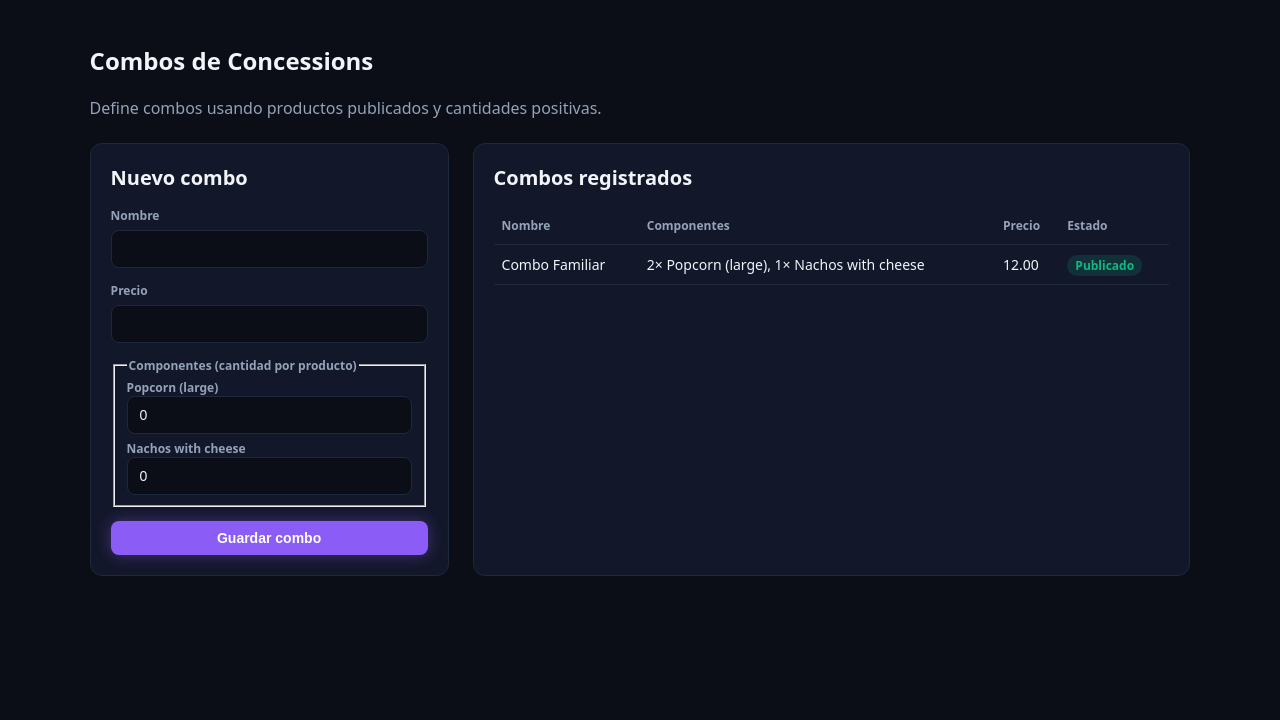
Scenario: CombosPageComponent › saves a combo with the chosen quantities
The image size is (1280, 720).
Type "Pareja" into the field with id "combo-name".
click(269, 249); type("Pareja")  # box [111,230,428,268]
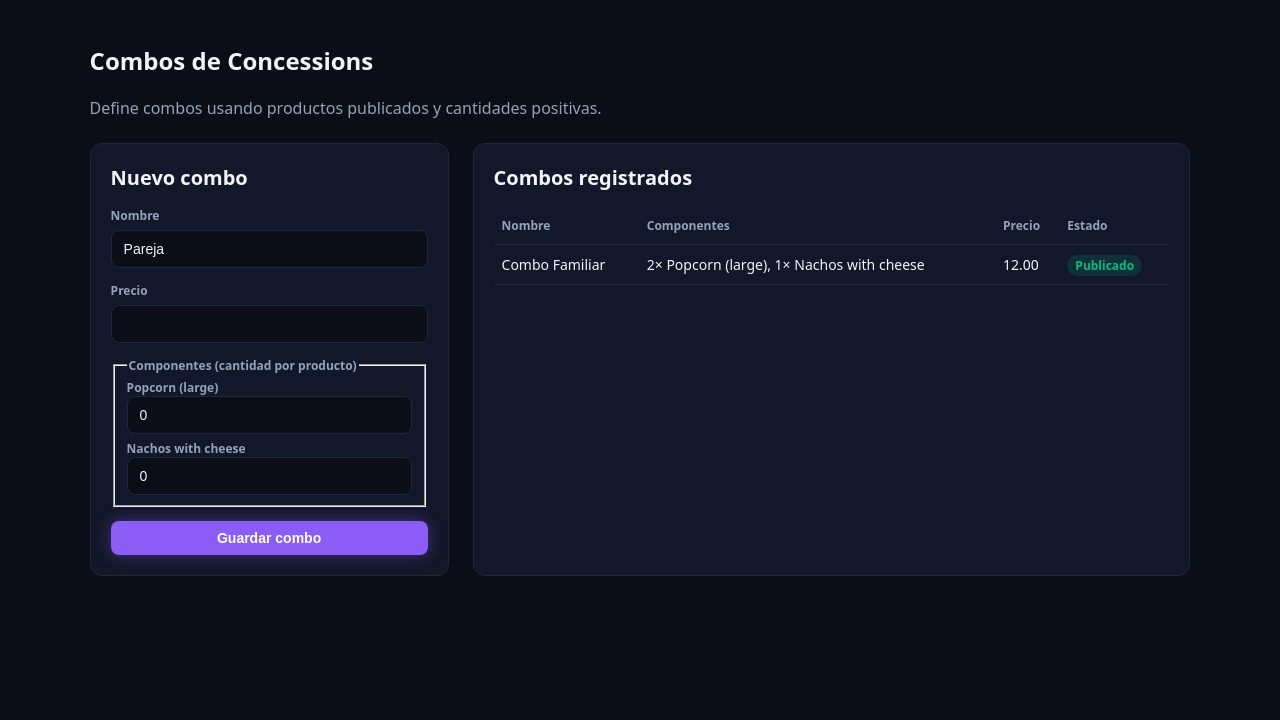
Type "9" into the number field with id "combo-price".
click(269, 324); type("9")  # box [111,305,428,343]
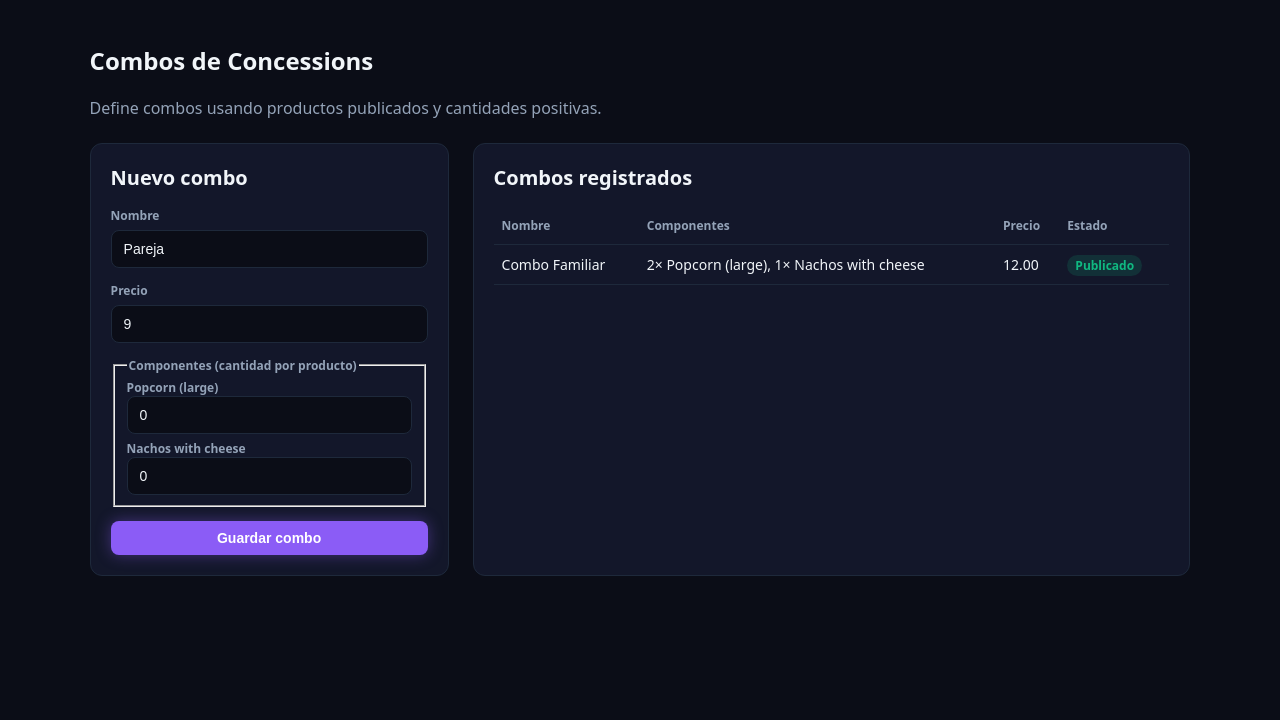
Replace the text in the number field with test id "component-quantity" showing "Popcorn (large)" with "2" at (269, 415), box [127,396,412,434]
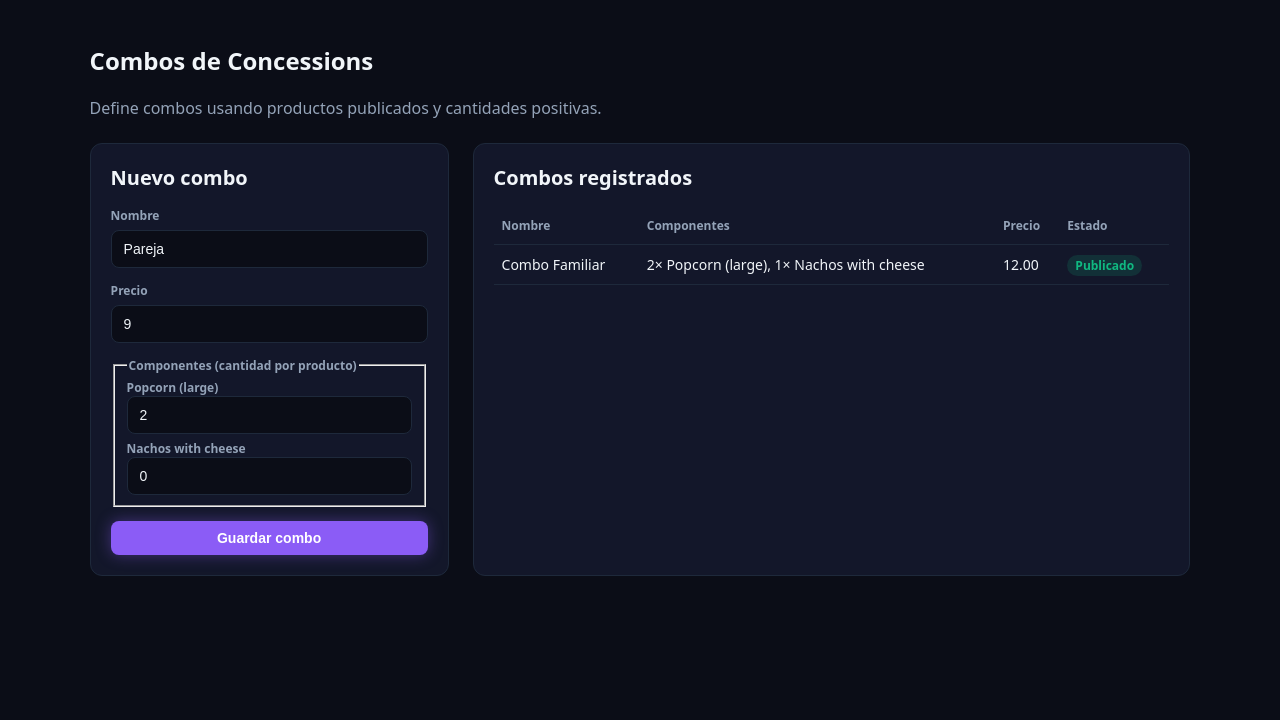
Submit the form, box [111,207,428,555]
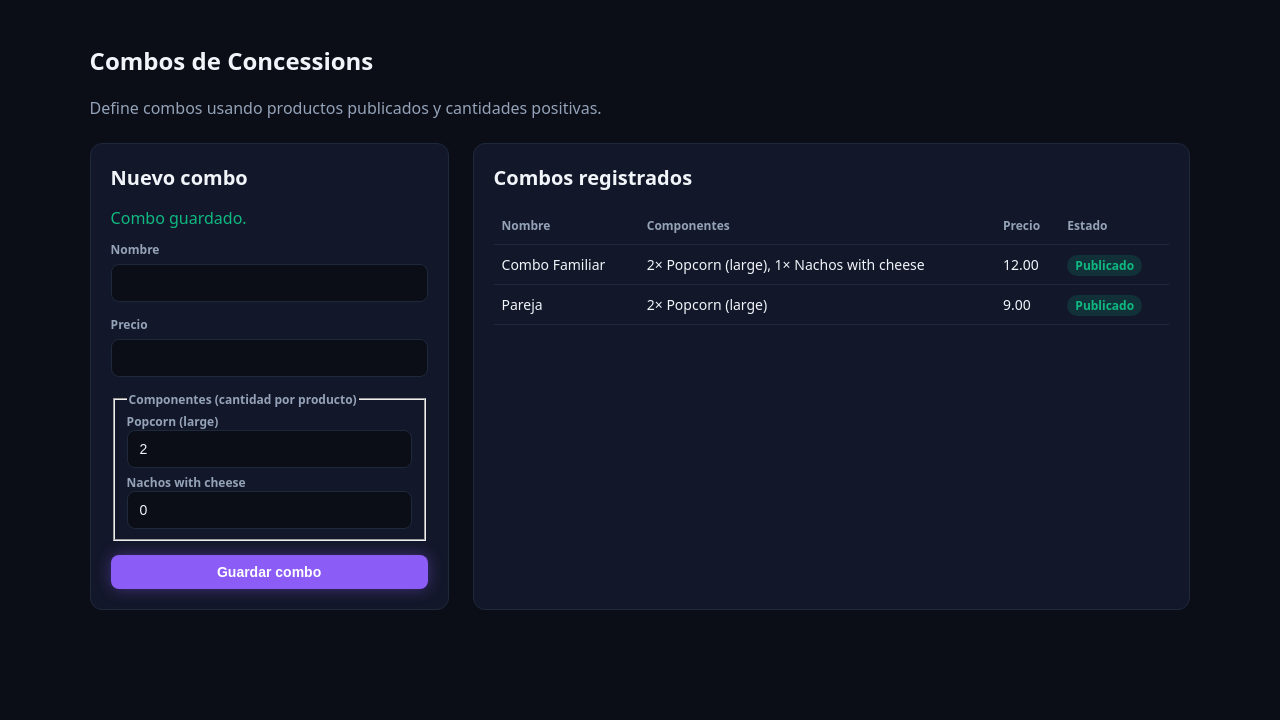
Expected: the row with test id "combo-row" shows "Pareja", [502,295,543,314]
Expected: the row with test id "combo-row" shows "2× Popcorn (large)", [647,295,767,314]
